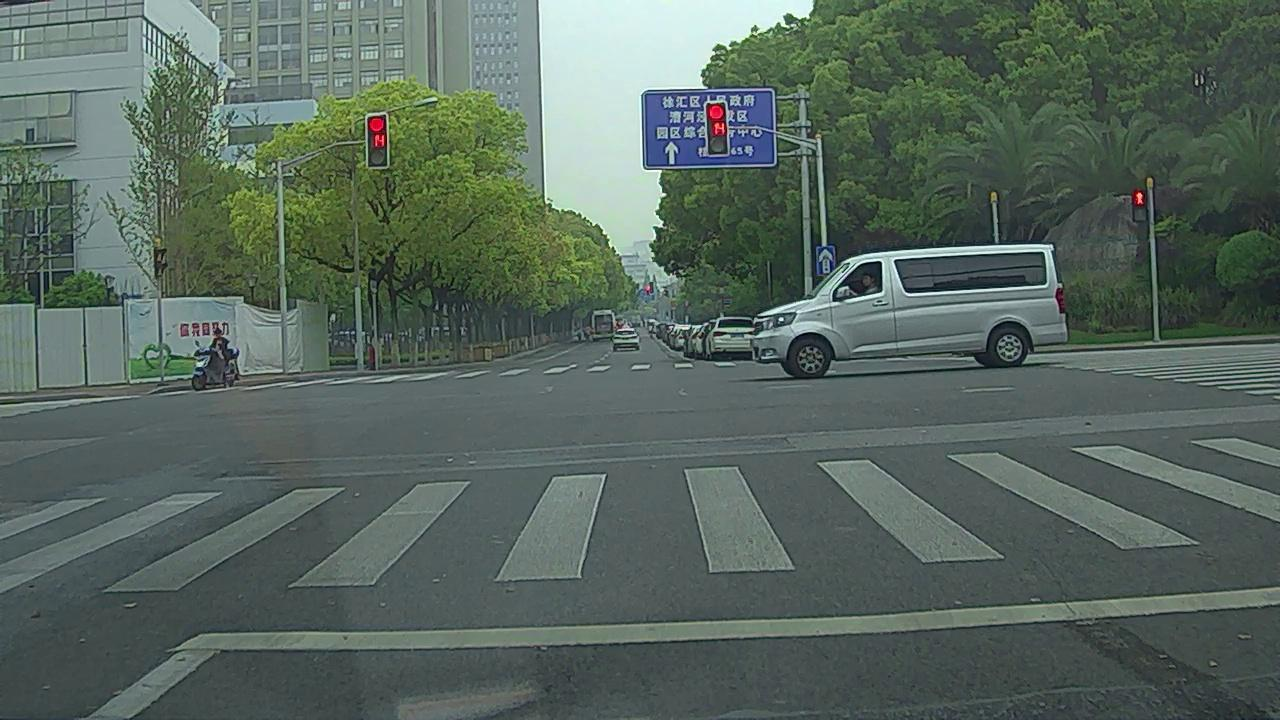traffic_light: (366, 112, 388, 168), (706, 103, 728, 155)
